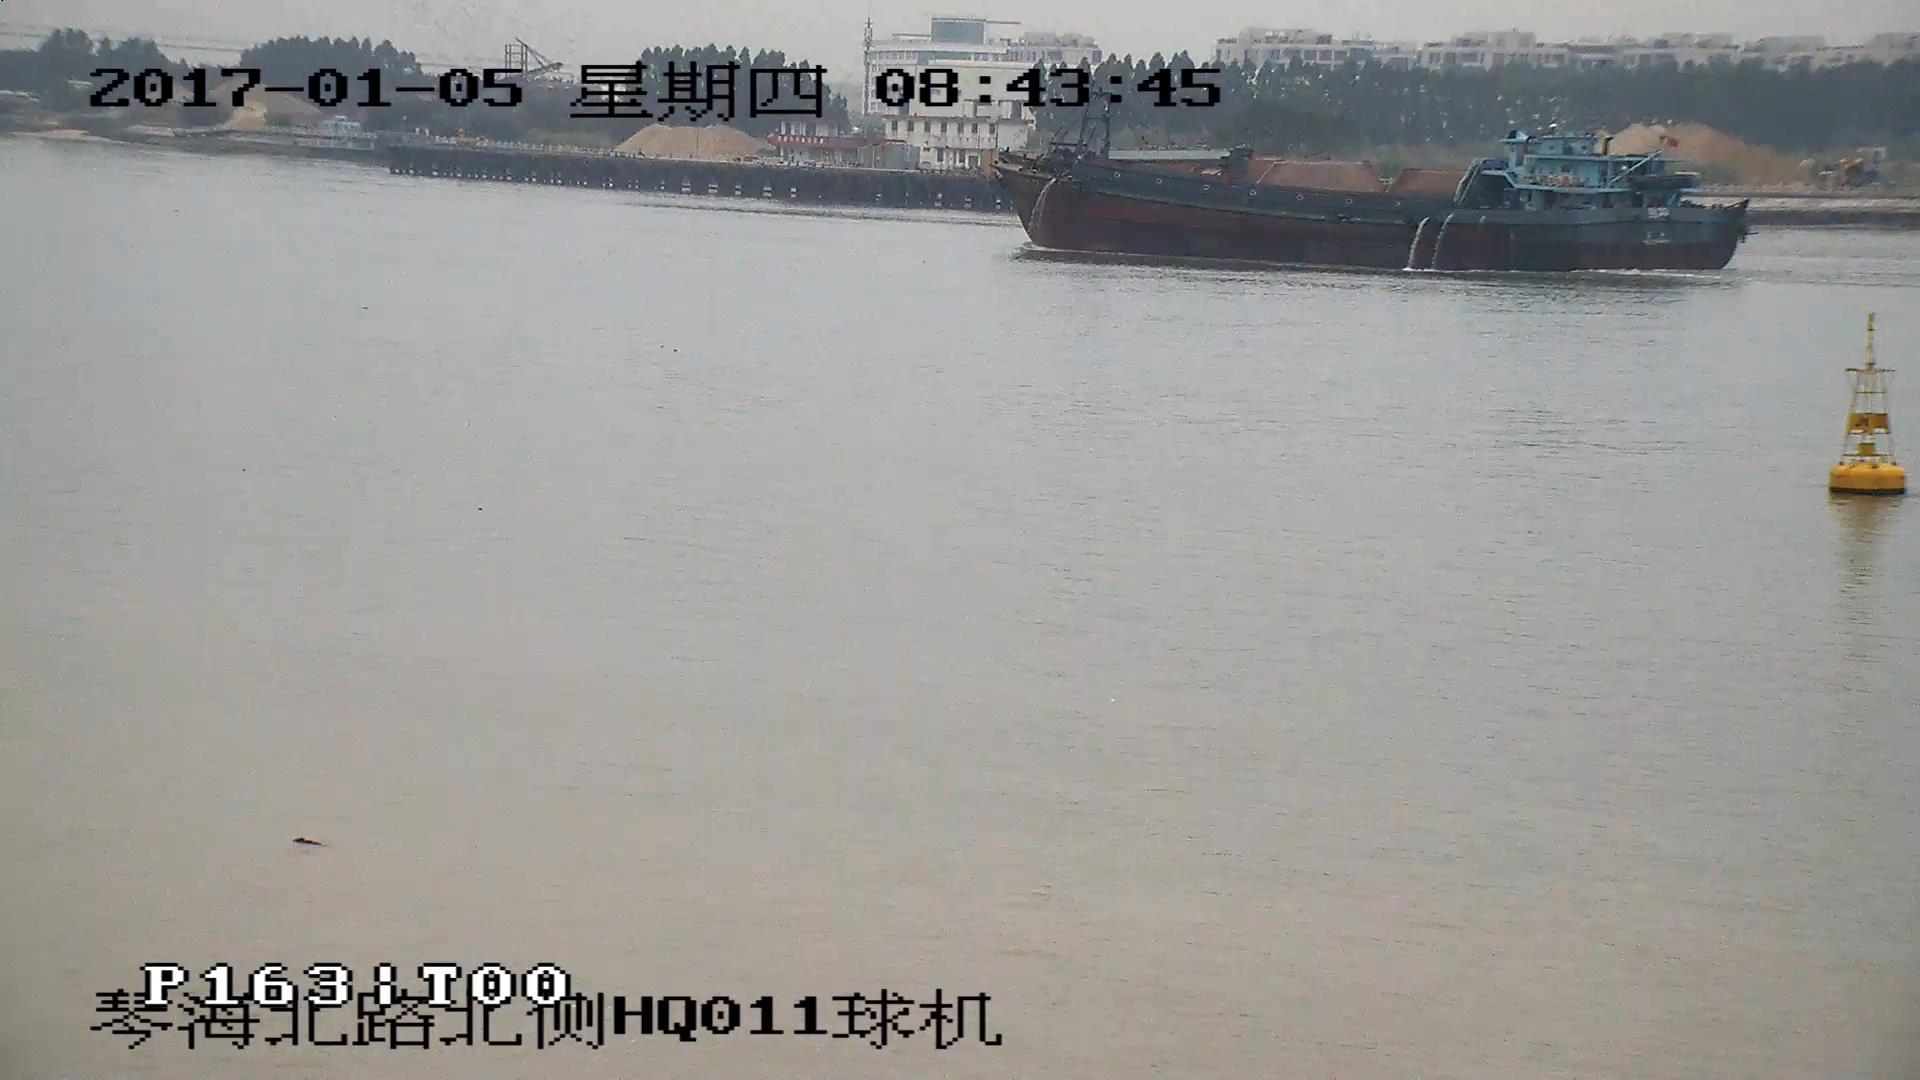Ship: (1002, 117, 1745, 272)
